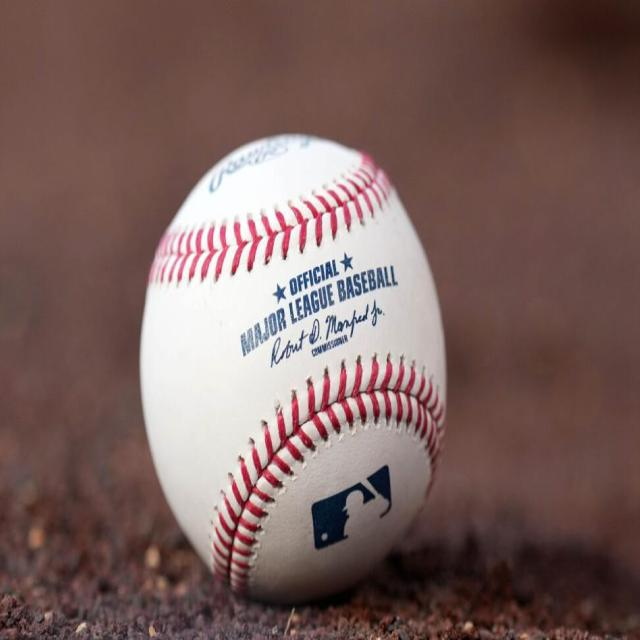ball: (138, 132, 454, 606)
